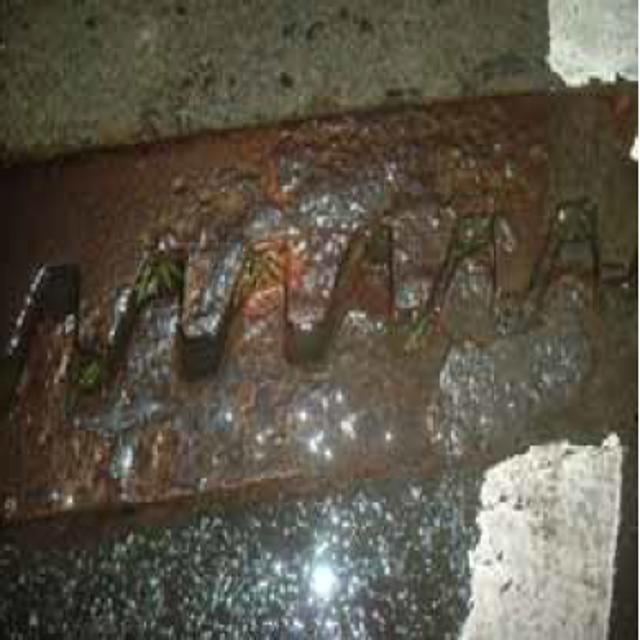corrosion: (12, 121, 627, 476)
